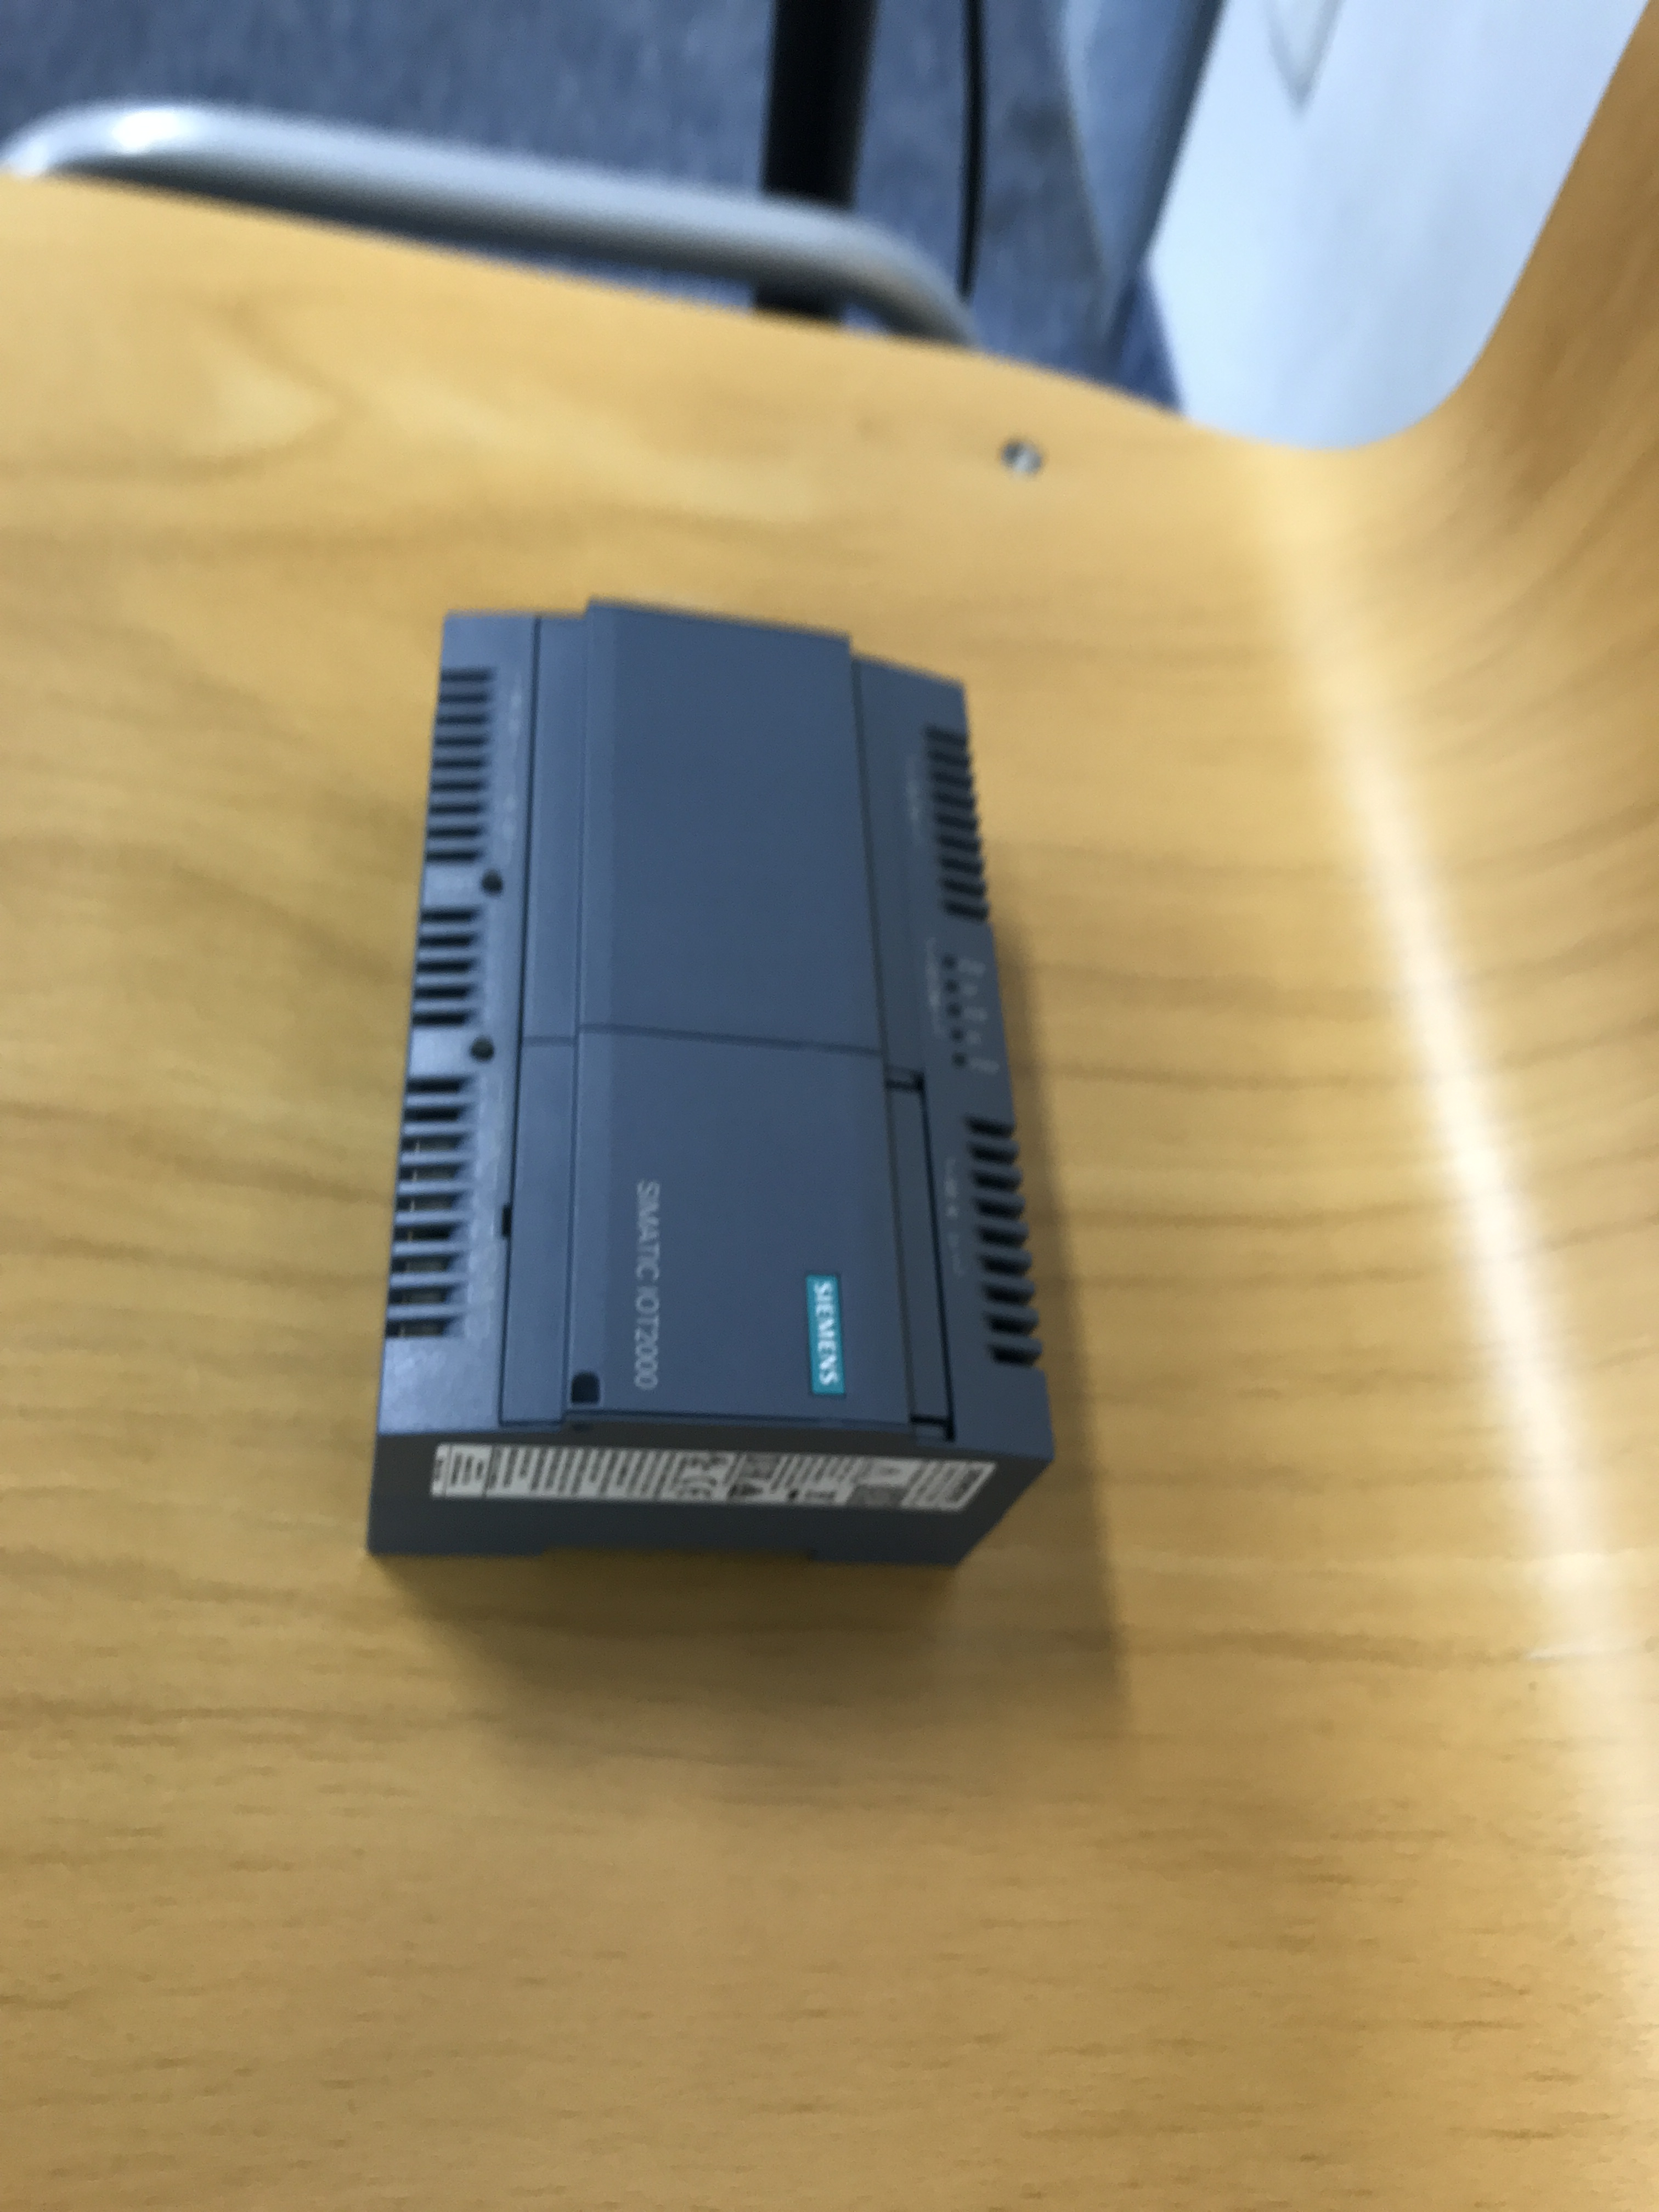device: (361, 597, 1060, 1571)
